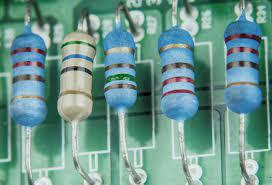resistor: (158, 25, 199, 123), (224, 10, 261, 117), (57, 27, 97, 122), (12, 25, 48, 127), (103, 23, 137, 112)
